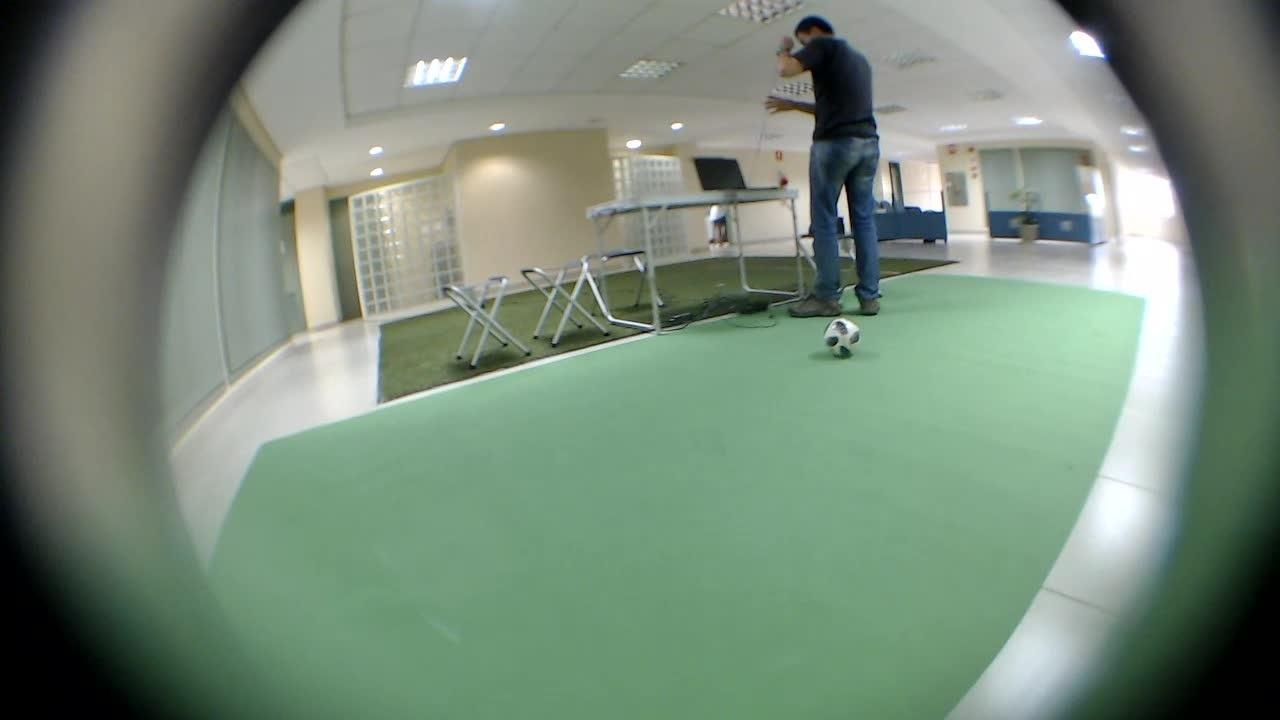ball: (812, 301, 861, 361)
